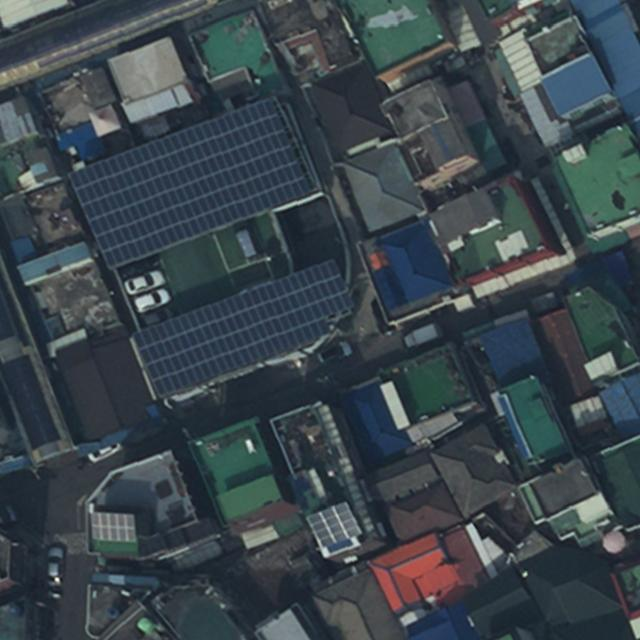panel: (64, 96, 314, 272), (130, 257, 356, 401), (306, 500, 367, 550), (88, 510, 138, 542)
